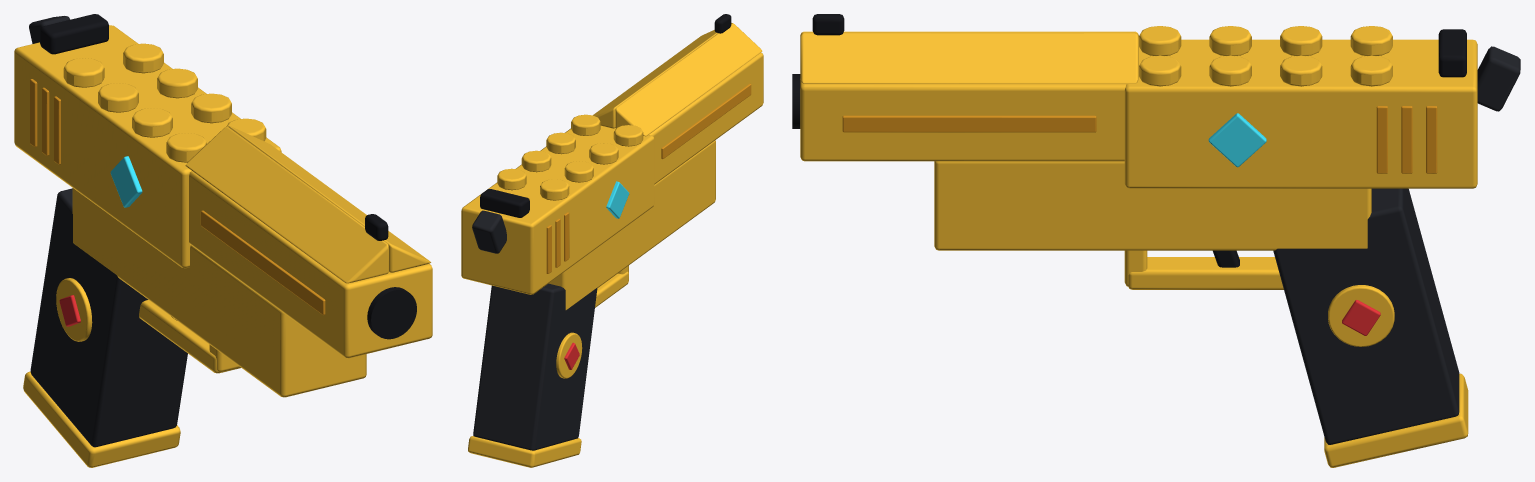
Rendered from Deagle.fbx.
3 renders of one model, left to right at view 1: azimuth 30°, elevation 25°; view 2: azimuth 150°, elevation 25°; view 3: azimuth 270°, elevation 25°, orthographic. The views are drawn at different scales.
Parts seen in each view (by area): view 1: Deagle_Foil, Deagle_Plastic, Deagle_SmoothPlastic, Deagle_Glass_3ce6ff, Deagle_Glass_e83034; view 2: Deagle_Foil, Deagle_Plastic, Deagle_SmoothPlastic, Deagle_Glass_3ce6ff; view 3: Deagle_Foil, Deagle_Plastic, Deagle_SmoothPlastic, Deagle_Glass_3ce6ff, Deagle_Glass_e83034.
Part boxes in pixels (box(x1,y1,x2,y2)): Deagle_Foil: box(14, 25, 432, 467); Deagle_Plastic: box(29, 16, 187, 447); Deagle_SmoothPlastic: box(40, 14, 416, 339); Deagle_Glass_3ce6ff: box(110, 156, 142, 207); Deagle_Glass_e83034: box(59, 295, 80, 326); Deagle_Foil: box(461, 23, 763, 467); Deagle_Plastic: box(472, 210, 597, 450); Deagle_SmoothPlastic: box(480, 14, 731, 217); Deagle_Glass_3ce6ff: box(606, 181, 629, 218); Deagle_Foil: box(800, 26, 1477, 467); Deagle_Plastic: box(1273, 46, 1520, 444); Deagle_SmoothPlastic: box(792, 14, 1466, 267); Deagle_Glass_3ce6ff: box(1208, 113, 1266, 167); Deagle_Glass_e83034: box(1342, 300, 1380, 335).
Size of the model in its own units: 0.372 by 1.35 by 2.06.
Materials: 5 (5 with a texture image).
